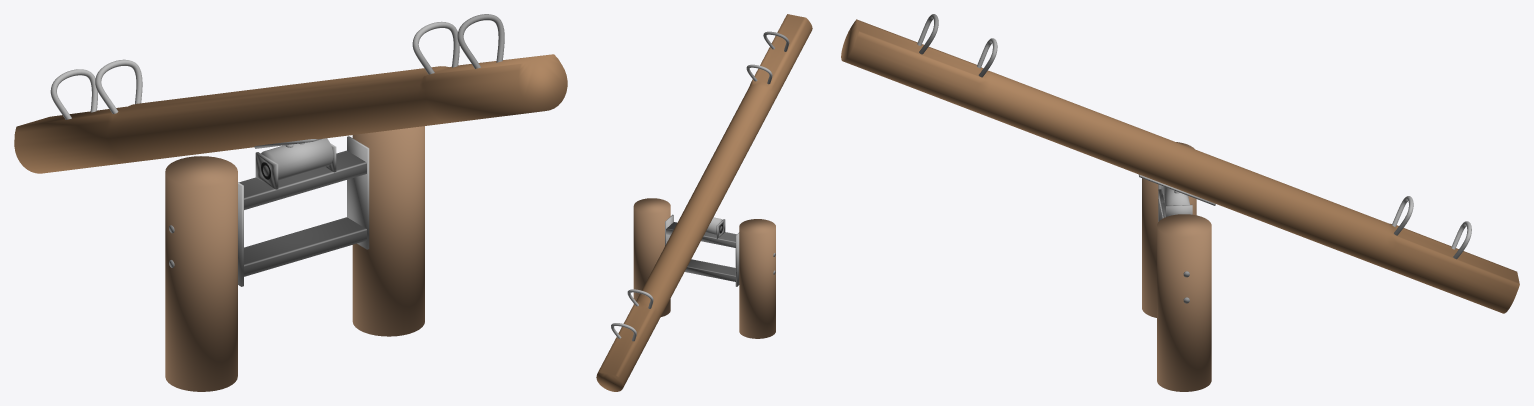
The model's file is Kacheli.fbx.
The picture shows the model from 3 angles, left to right: view 1: azimuth 30°, elevation 25°; view 2: azimuth 150°, elevation 25°; view 3: azimuth 270°, elevation 25°; orthographic projection. The views are drawn at different scales.
Parts seen in each view (by area): view 1: Kacheli; view 2: Kacheli; view 3: Kacheli.
Part boxes in pixels (box(x1,y1,x2,y2)): Kacheli: box(14, 14, 567, 391); Kacheli: box(596, 14, 812, 391); Kacheli: box(841, 14, 1519, 391).
Size of the model in its own units: 1.64 by 4.88 by 2.66.
